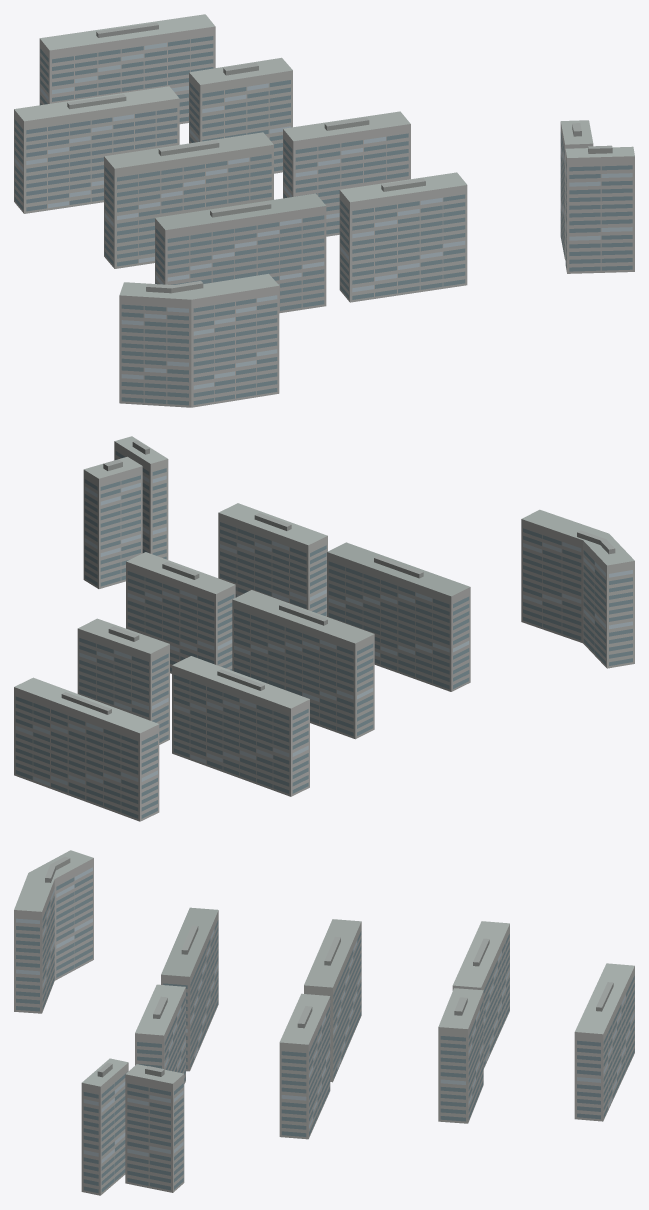
File: apt-a13203303.glb
The picture shows the model from 3 angles, top to bottom: view 1: azimuth 30°, elevation 25°; view 2: azimuth 150°, elevation 25°; view 3: azimuth 270°, elevation 25°; orthographic projection. The views are drawn at different scales.
Visible parts, largest first — view 1: apt-a13203303; view 2: apt-a13203303; view 3: apt-a13203303.
Boxes of the visible parts, x1,y1,x2,y2 form: apt-a13203303: (14,14,634,407); apt-a13203303: (14,436,634,821); apt-a13203303: (14,850,634,1195).
Bounding box in the file's own units: 219 × 47.81 × 236.
